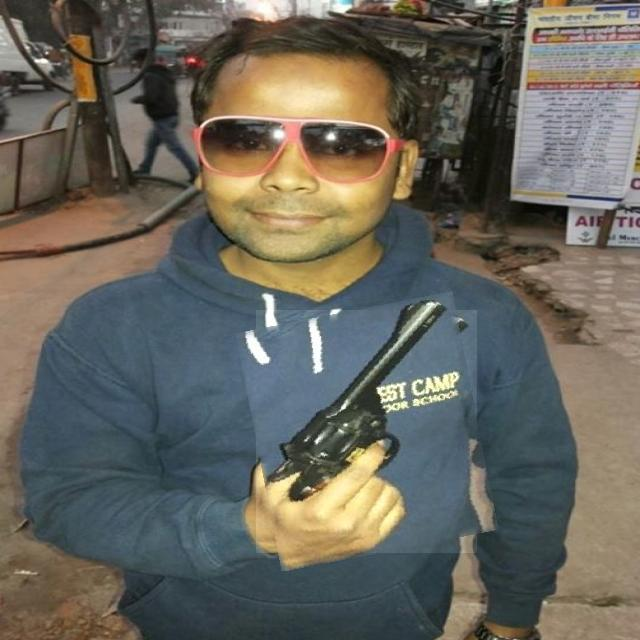handgun: (245, 300, 488, 562)
